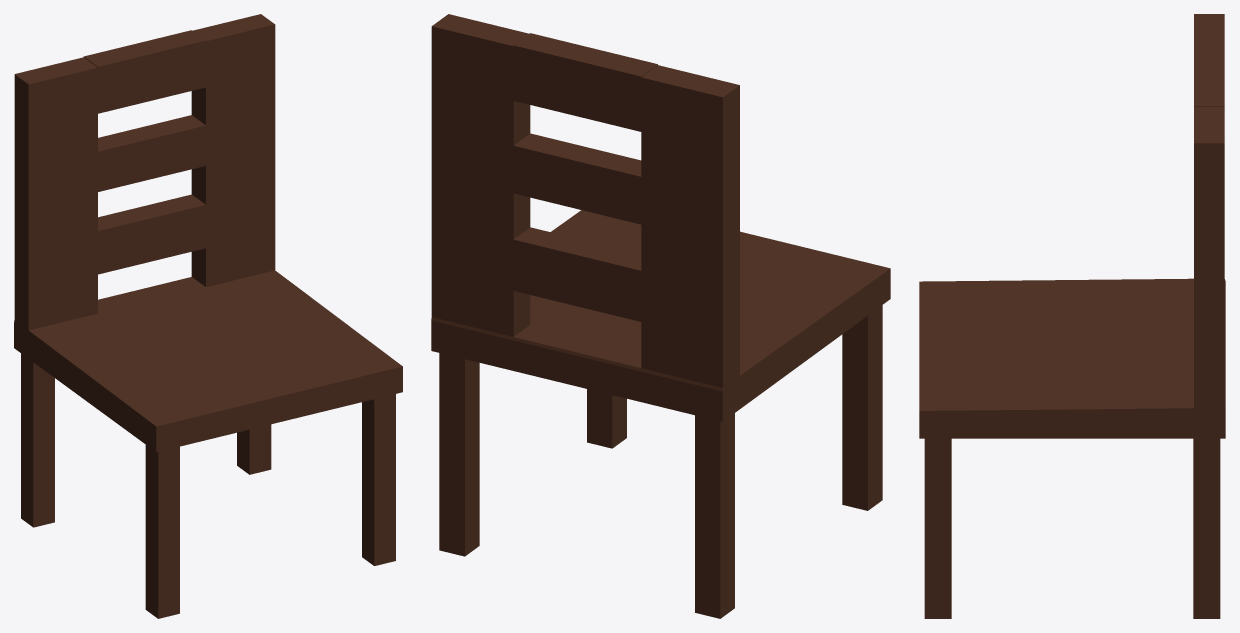
The model's file is Chair.glb.
3 views of the same model, side by side, from view 1: azimuth 30°, elevation 25°; view 2: azimuth 150°, elevation 25°; view 3: azimuth 270°, elevation 25° (orthographic). The views are drawn at different scales.
Parts seen in each view (by area): view 1: Cube; view 2: Cube; view 3: Cube.
Part boxes in pixels (x1,y1,x2,y2): Cube: [14, 14, 402, 618]; Cube: [431, 14, 890, 618]; Cube: [919, 14, 1225, 618].
Bounding box in the file's own units: 2.87 × 4.94 × 2.87.
